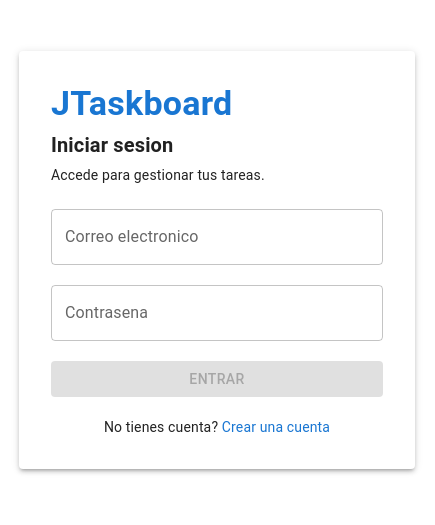
LoginPage › muestra "correo o contrasena incorrectos" ante un 401
Type "ada@example.com" into the field labelled "Correo electronico". click: (217, 237)
box: [51,209,383,265]
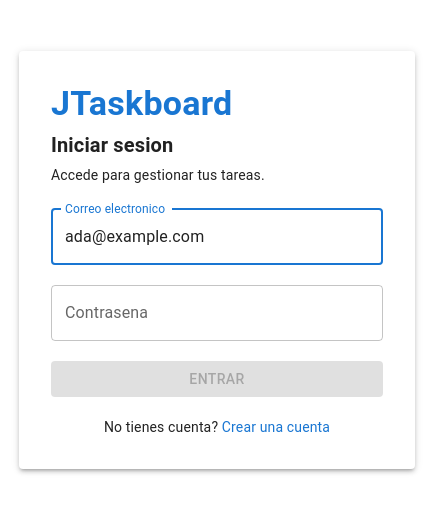
Type "mala" into the password field labelled "Contrasena". click: (217, 313)
box: [51,285,383,341]
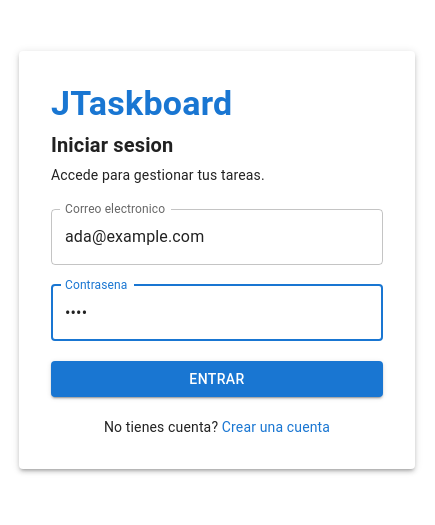
Click the button "Entrar". click: (217, 379)
box: [51,361,383,397]
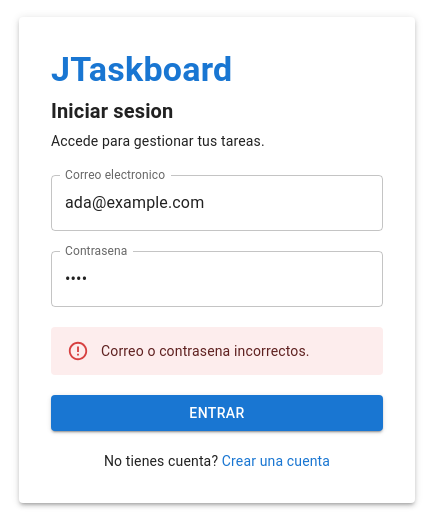
Expected: the message shows "incorrectos", [101,343,310,359]
